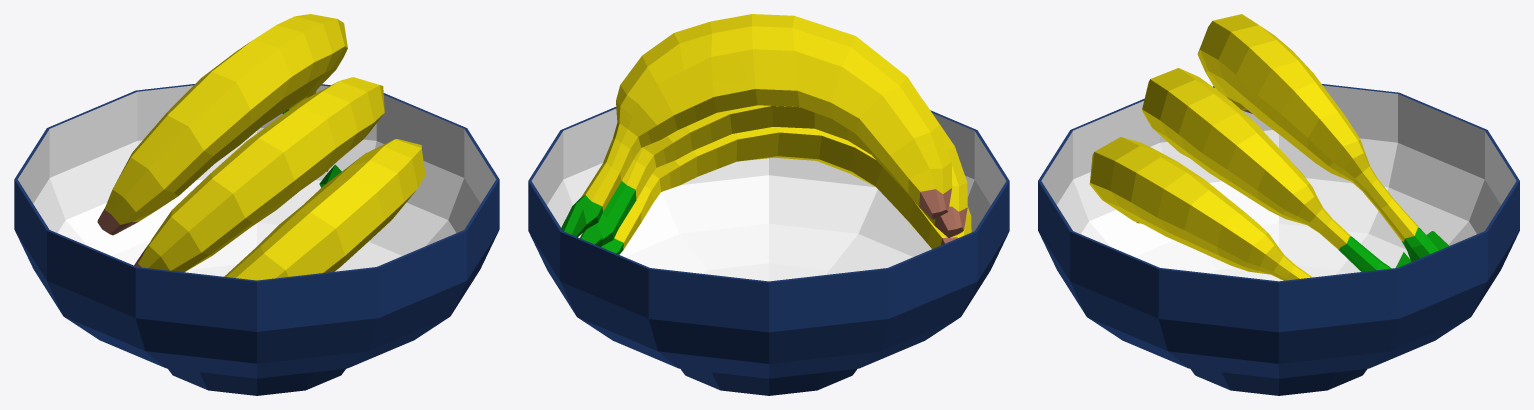
Rendered from bananas2.glb.
3 views of the same model, side by side, from view 1: azimuth 30°, elevation 25°; view 2: azimuth 150°, elevation 25°; view 3: azimuth 270°, elevation 25° (orthographic).
Parts seen in each view (by area): view 1: SM_wan01_yecan_white_0; view 2: SM_wan01_yecan_white_0; view 3: SM_wan01_yecan_white_0.
Part boxes in pixels (x1=…): SM_wan01_yecan_white_0: x1=14, y1=14, x2=499, y2=395; SM_wan01_yecan_white_0: x1=528, y1=14, x2=1009, y2=395; SM_wan01_yecan_white_0: x1=1038, y1=14, x2=1519, y2=395.
Bounding box in the file's own units: 133 × 98.32 × 133.
Materials: 5 (5 with a texture image).
